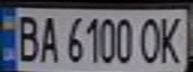0: (115, 15, 136, 65), (100, 15, 118, 64)
1: (81, 13, 100, 64)
6: (63, 13, 84, 64)
A: (36, 12, 63, 64)
B: (9, 11, 42, 63)
K: (154, 12, 187, 65)
O: (139, 14, 163, 65)
